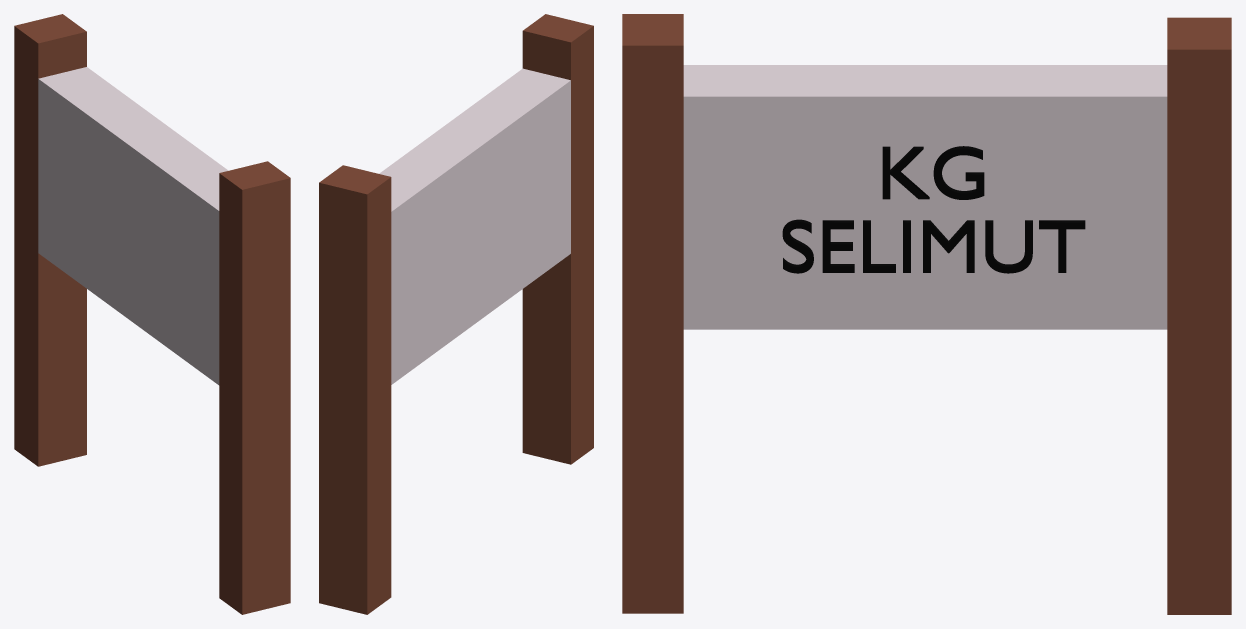
Rendered from sign1.fbx.
3 views of the same model, side by side, from view 1: azimuth 30°, elevation 25°; view 2: azimuth 150°, elevation 25°; view 3: azimuth 270°, elevation 25° (orthographic). The views are drawn at different scales.
Visible parts, largest first — view 1: Cube.001; view 2: Cube.001; view 3: Cube.001, Text.002.
Boxes of the visible parts, x1,y1,x2,y2 form: Cube.001: [14, 14, 290, 614]; Cube.001: [319, 14, 593, 614]; Cube.001: [622, 14, 1231, 614]; Text.002: [782, 146, 1085, 273].
Size of the model in its own units: 155 by 1206 by 1170.
